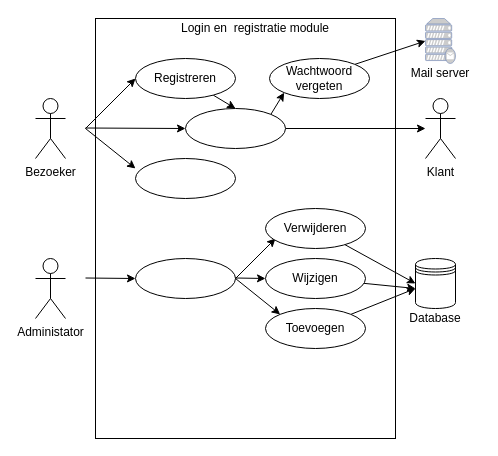
This 498x456 diagram has some shape labels left out. Each missing label, with the box of its shape:
Aanmelden: (184, 108, 286, 148)
Bezoeken: (134, 158, 236, 198)
Gebruikers overzicht: (134, 258, 236, 298)
